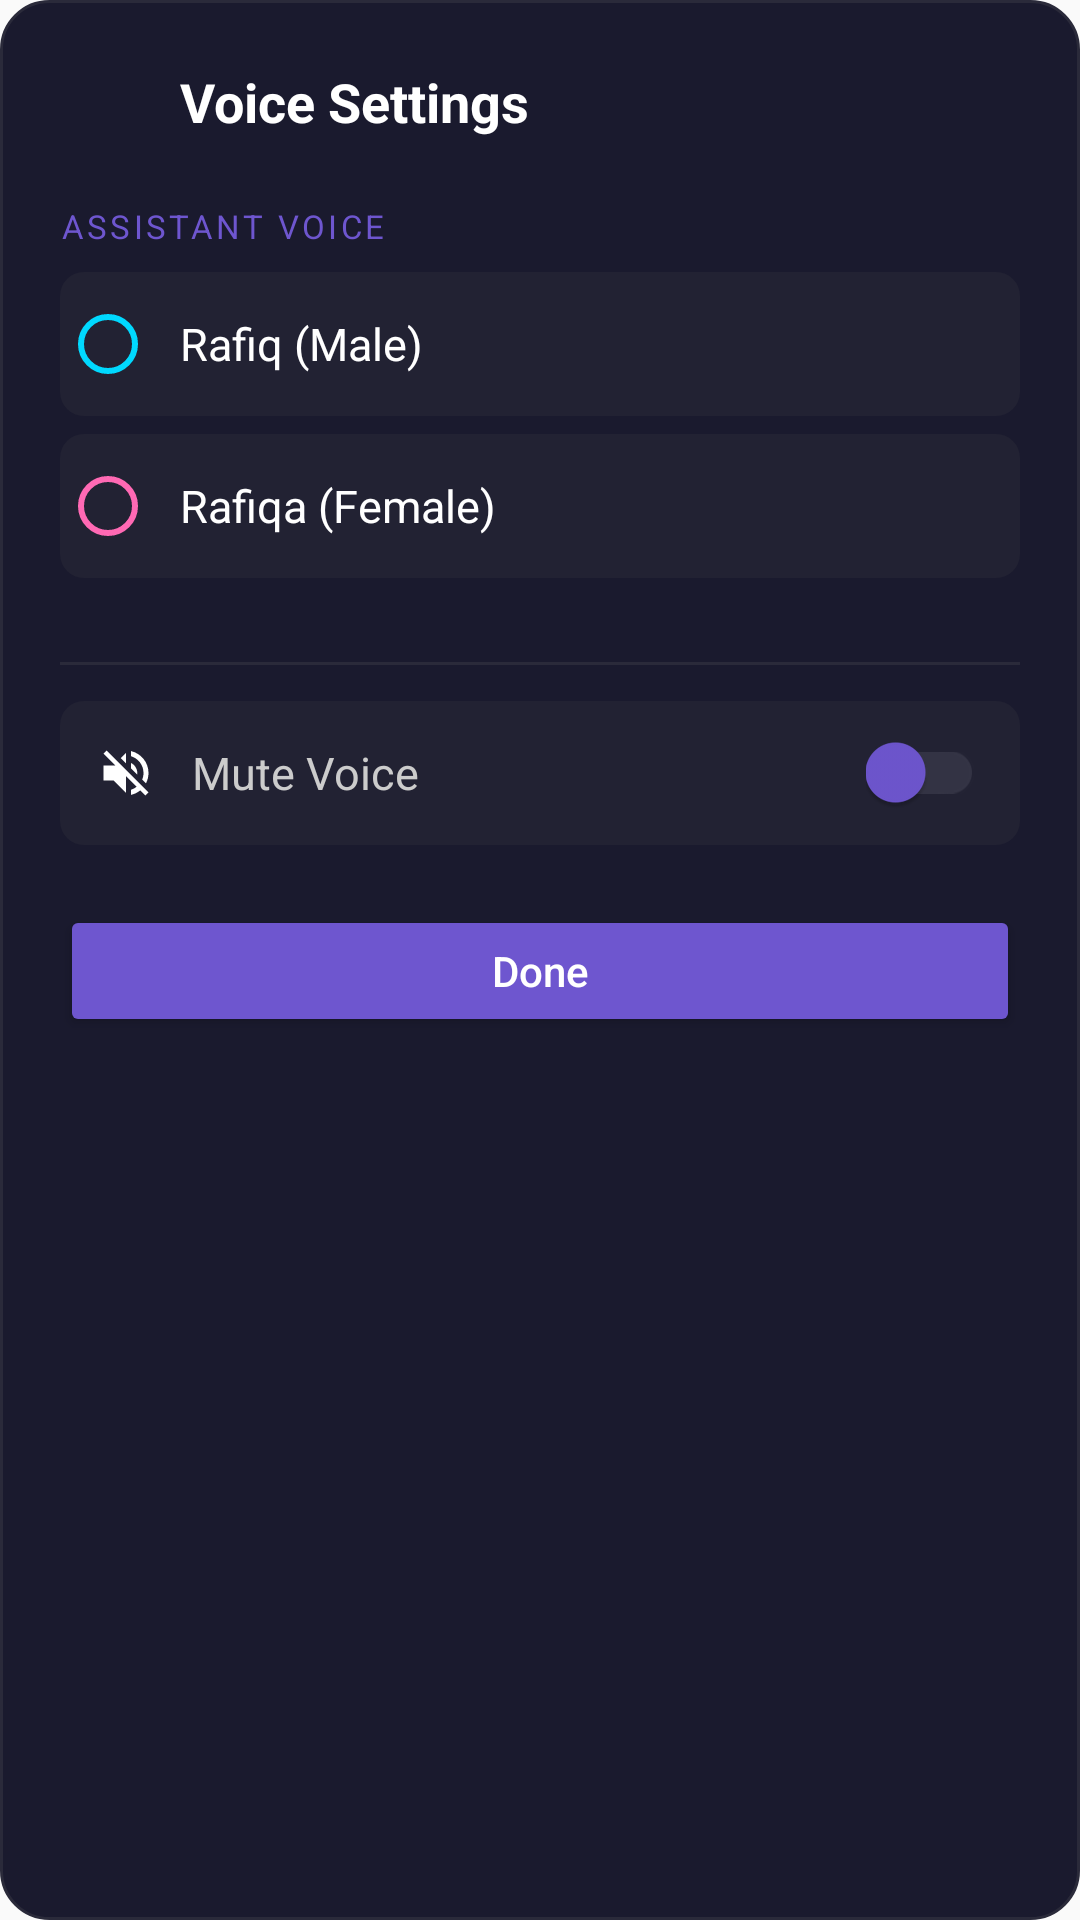

Icons on this 1080x1920 Android screen, each with its box as (x1, y1, x2, y2):
volume off: (103, 750, 149, 796)
